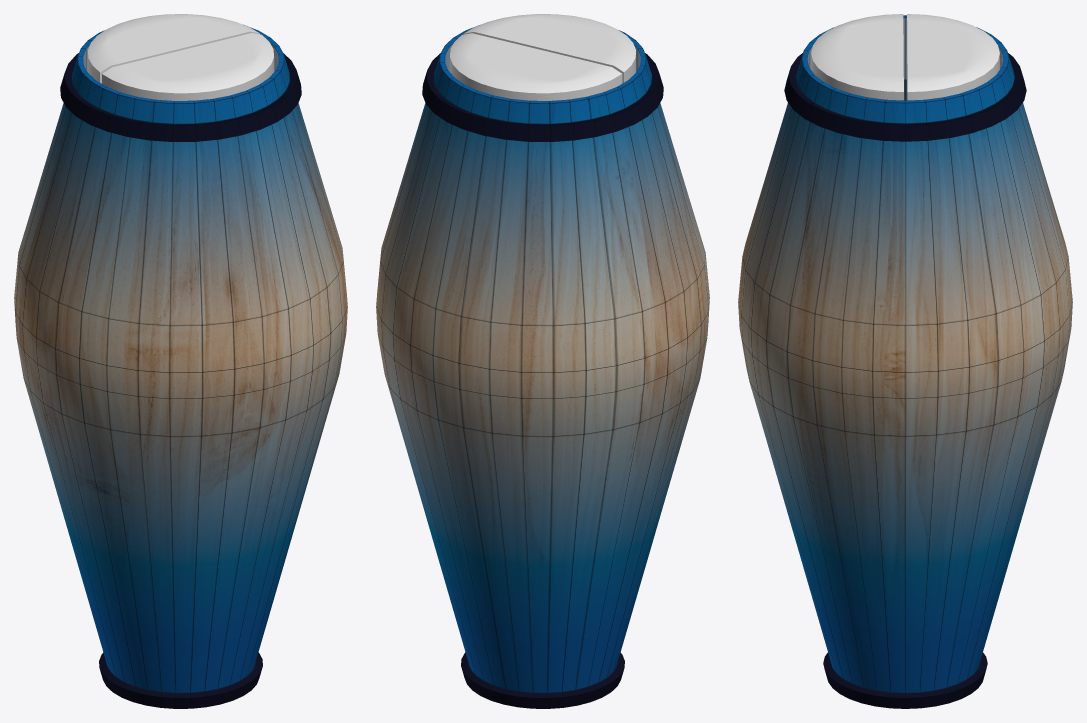
File: Conga.fbx
3 renders of one model, left to right at view 1: azimuth 30°, elevation 25°; view 2: azimuth 150°, elevation 25°; view 3: azimuth 270°, elevation 25°, orthographic.
Visible parts, largest first — view 1: Conga_Body, Button_1, Button_2; view 2: Conga_Body, Button_2, Button_1; view 3: Conga_Body, Button_1, Button_2.
Boxes of the visible parts, x1,y1,x2,y2 form: Conga_Body: (14,24,347,708); Button_1: (102,33,274,100); Button_2: (87,14,259,83); Conga_Body: (376,25,709,708); Button_2: (450,33,622,100); Button_1: (463,14,635,83); Conga_Body: (738,15,1072,708); Button_1: (811,14,903,100); Button_2: (907,14,999,100).
Size of the model in its own units: 44.35 by 91.65 by 44.35.
